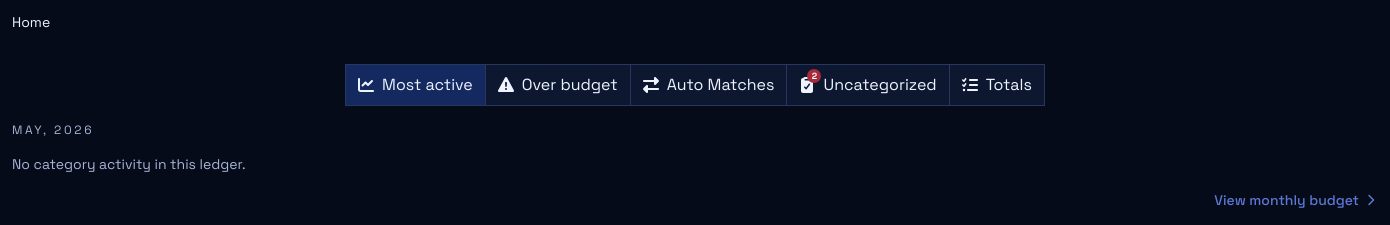
dashboard workspace › shows an empty auto-match message when no matches are ready
What coordinates should you click on to do the following:
click the tab "Auto Matches"
I would click on:
 (708, 85)
Its box is [630, 65, 786, 105].
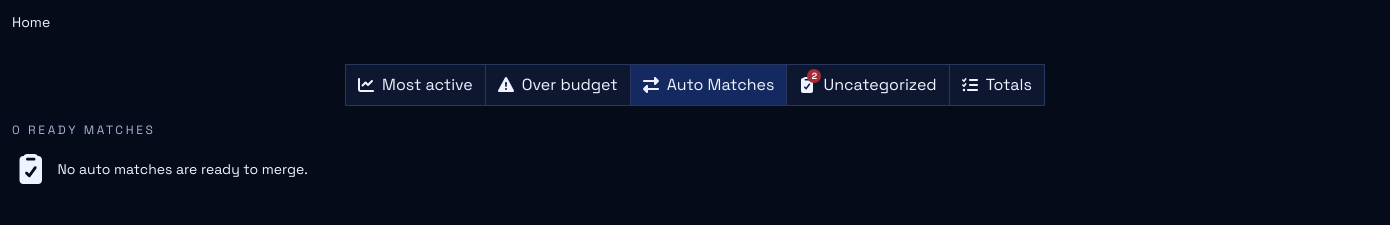
expect the text "No auto matches are ready to merge." is shown: met, box [58, 159, 308, 179]
